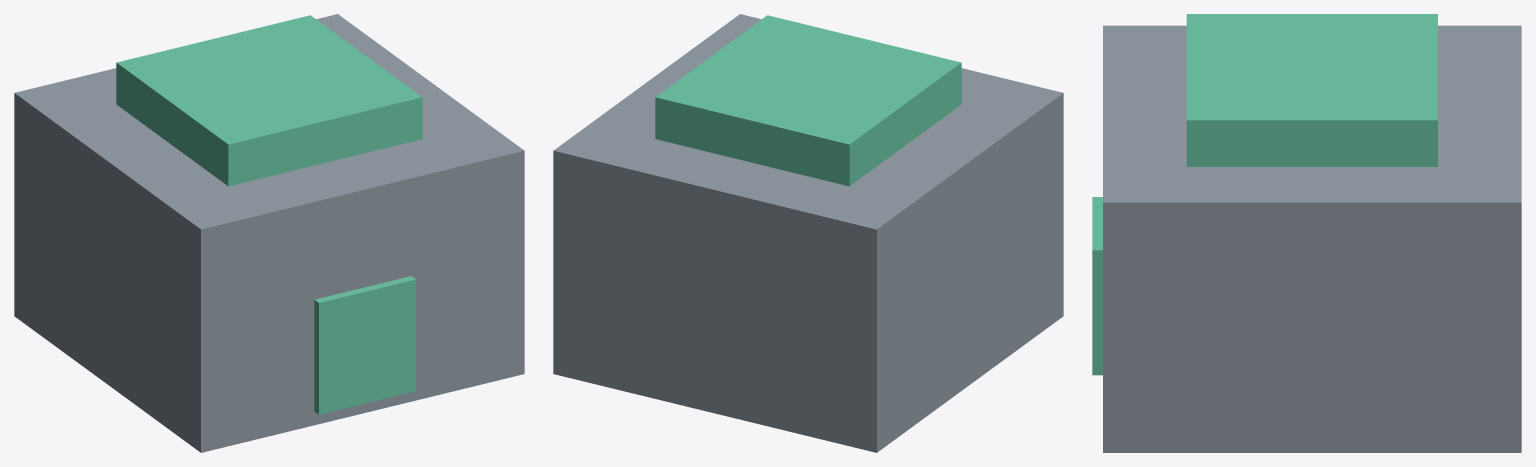
File: CO_ShieldHub_LOD0.glb
3 views of the same model, side by side, from view 1: azimuth 30°, elevation 25°; view 2: azimuth 150°, elevation 25°; view 3: azimuth 270°, elevation 25° (orthographic). The views are drawn at different scales.
Visible parts, largest first — view 1: EntranceGate; view 2: EntranceGate; view 3: EntranceGate.
Part boxes in pixels (box(x1,y1,x2,y2)): EntranceGate: box(14, 14, 524, 452); EntranceGate: box(553, 14, 1063, 452); EntranceGate: box(1092, 14, 1521, 452).
Bounding box in the file's own units: 400 × 314 × 410.
